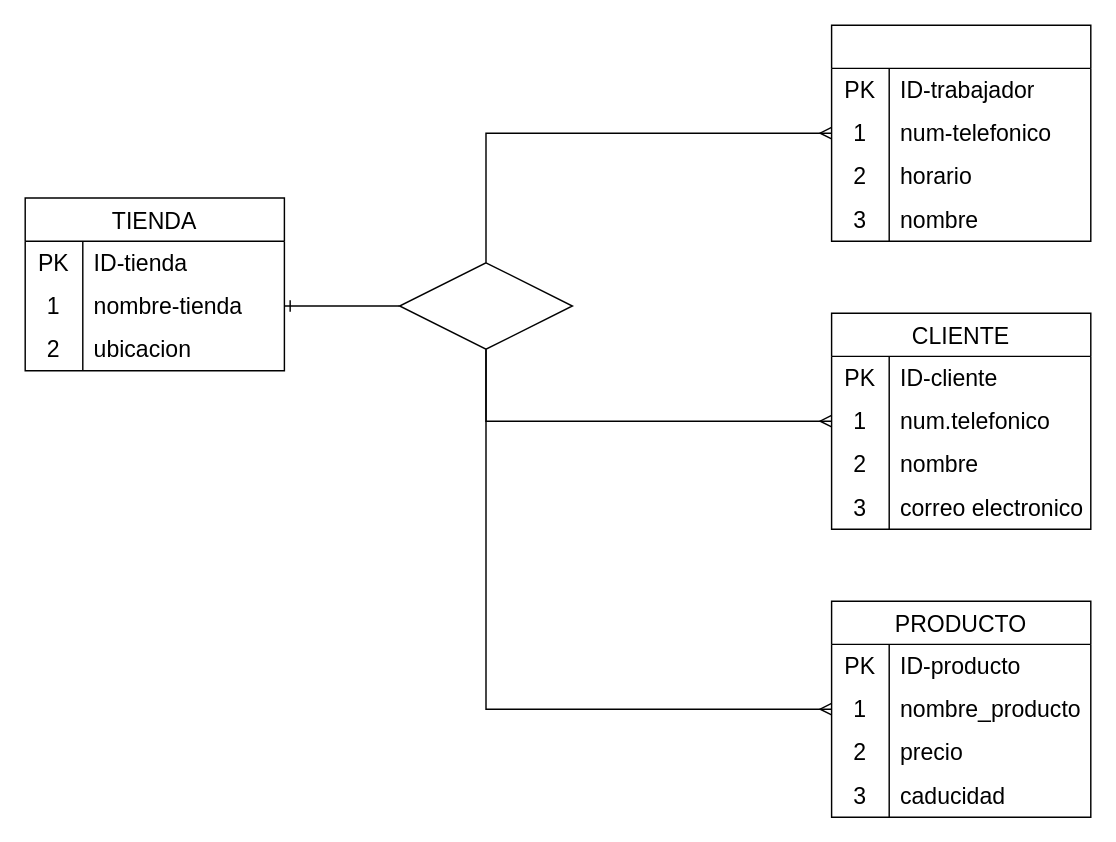
The diagram is 1116 pixels wide and 842 high, and some of its shapes have lost their labels. Here are the shapes that lost their labels. From the top down, the box of each, then its label:
(830, 24, 1091, 241): PERSONAL
(398, 261, 572, 349): tiene
